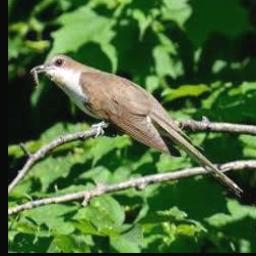Cuckoo: (31, 53, 244, 198)
